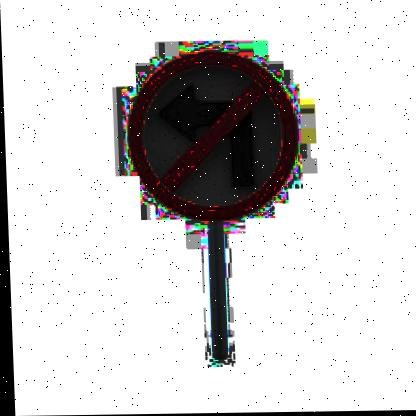No left turn: (113, 49, 303, 233)
